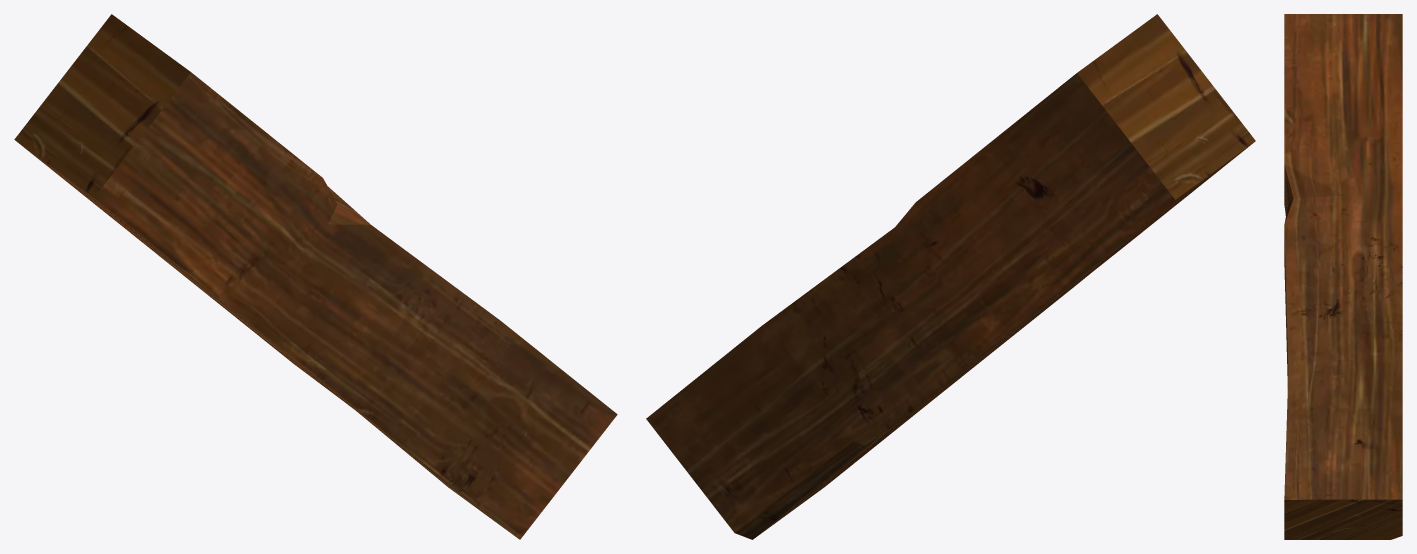
The picture shows the model from 3 angles, left to right: view 1: azimuth 30°, elevation 25°; view 2: azimuth 150°, elevation 25°; view 3: azimuth 270°, elevation 25°; orthographic projection. The views are drawn at different scales.
Parts seen in each view (by area): view 1: SM_BB_T2_Beam_Thick_Med_Diagonal_LOD0; view 2: SM_BB_T2_Beam_Thick_Med_Diagonal_LOD0; view 3: SM_BB_T2_Beam_Thick_Med_Diagonal_LOD0.
Part boxes in pixels (x1,y1,x2,y2): SM_BB_T2_Beam_Thick_Med_Diagonal_LOD0: (14, 14, 617, 539); SM_BB_T2_Beam_Thick_Med_Diagonal_LOD0: (646, 14, 1255, 539); SM_BB_T2_Beam_Thick_Med_Diagonal_LOD0: (1284, 14, 1402, 539).
Size of the model in its own units: 1.85 by 1.85 by 0.4873.
1 material, 1 textured.
